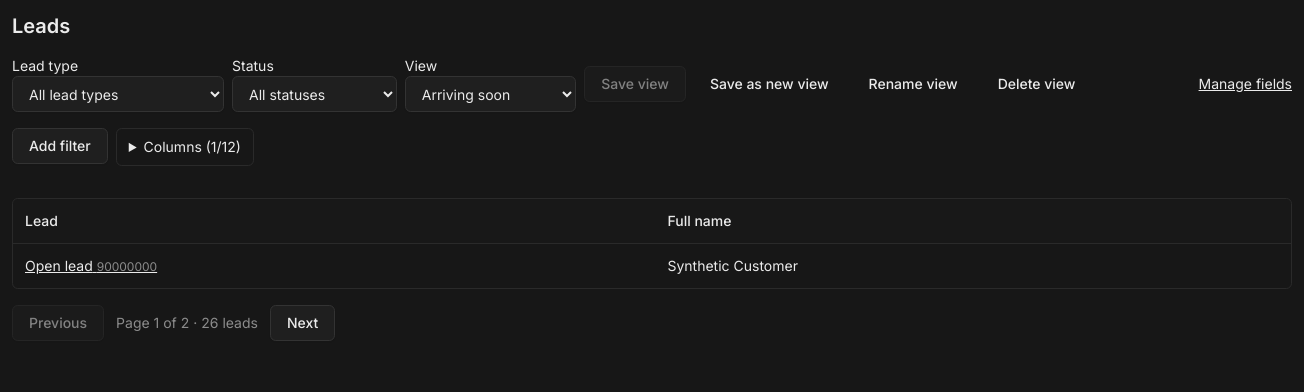
Test: LeadsList › saves changed filters into the open view and keeps it selected
The width and height of the screenshot is (1304, 392).
Expected: the text "Synthetic Customer" is shown, [655,244,1291,288]
Expected: the button "Save view" is disabled, [584,66,686,102]
Select "Submitted" in the dropdown named "Lead status" at [314, 94], box [232,76,397,112]
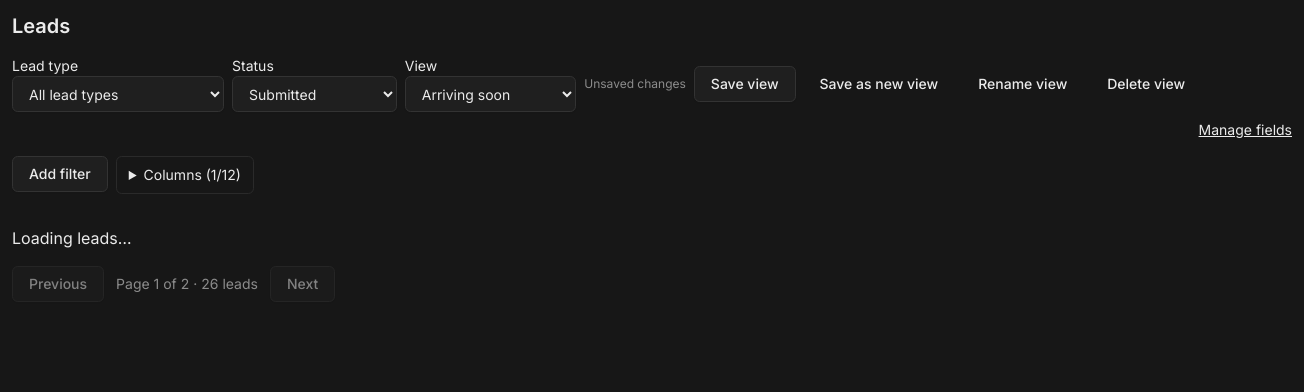
Now the text "Unsaved changes" is shown, box [584,76,686,92]
Now the button "Save view" is enabled
Click the button "Save view".
click(745, 84)  # box [694,66,796,102]
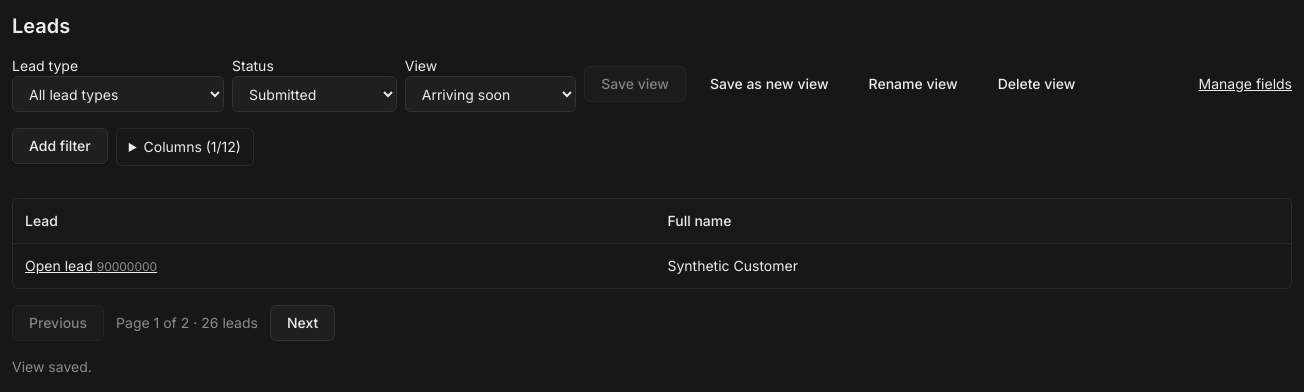
Now the text "View saved." is shown, box [12,358,92,375]
Now the text "Unsaved changes" is gone
